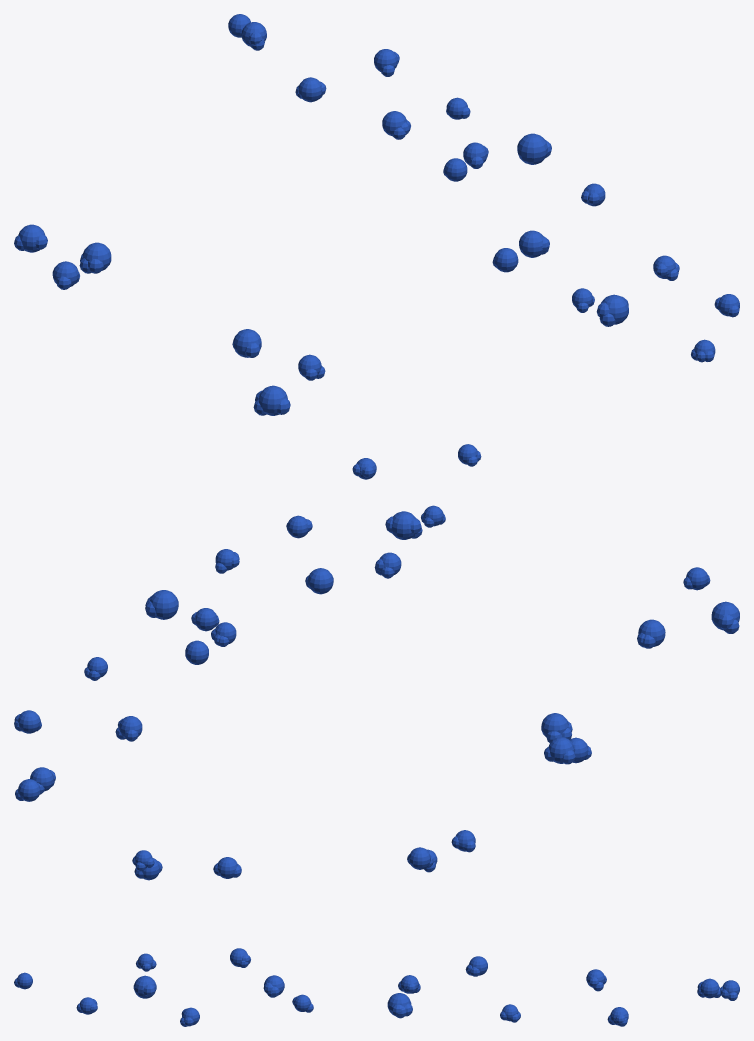
File: CanopyE2.fbx
3 renders of one model, top to bottom at view 1: azimuth 30°, elevation 25°; view 2: azimuth 150°, elevation 25°; view 3: azimuth 270°, elevation 25°, orthographic. The views are drawn at different scales.
Visible parts, largest first — view 1: CanopyE1.001; view 2: CanopyE1.001; view 3: CanopyE1.001.
Boxes of the visible parts, box(x1,y1,x2,y2) form: CanopyE1.001: box(14, 14, 739, 415); CanopyE1.001: box(14, 444, 739, 801); CanopyE1.001: box(14, 830, 739, 1026).
Size of the model in its own units: 17899 by 2192 by 29997.
